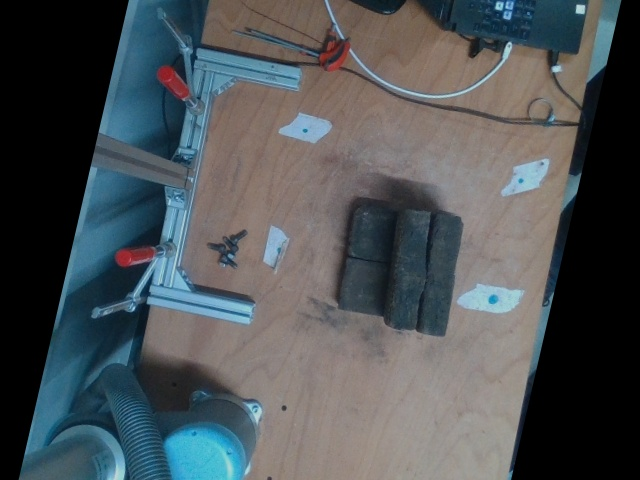brick-side: (392, 213, 428, 328), (425, 217, 461, 332)
